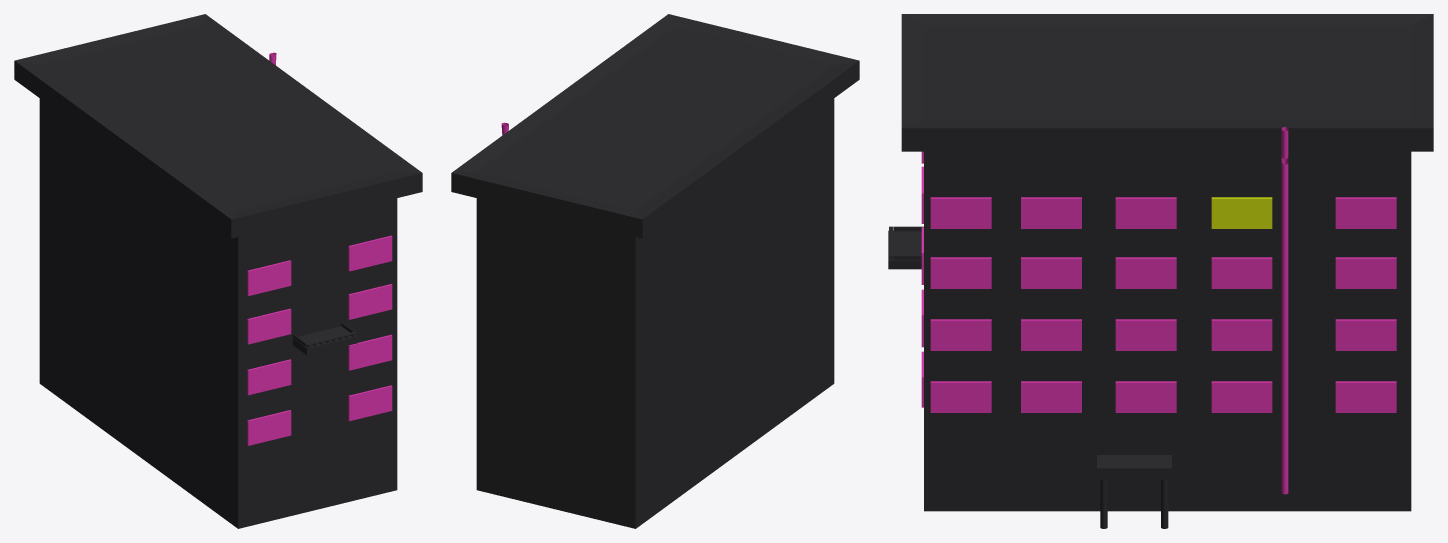
The model's file is BuildingTwo.fbx.
3 views of the same model, side by side, from view 1: azimuth 30°, elevation 25°; view 2: azimuth 150°, elevation 25°; view 3: azimuth 270°, elevation 25° (orthographic). The views are drawn at different scales.
Parts seen in each view (by area): view 1: Cube.001; view 2: Cube.001; view 3: Cube.001.
Boxes of the visible parts, x1,y1,x2,y2 form: Cube.001: (14, 14, 422, 528); Cube.001: (451, 14, 859, 528); Cube.001: (888, 14, 1433, 528).
Size of the model in its own units: 253 by 393 by 484.
